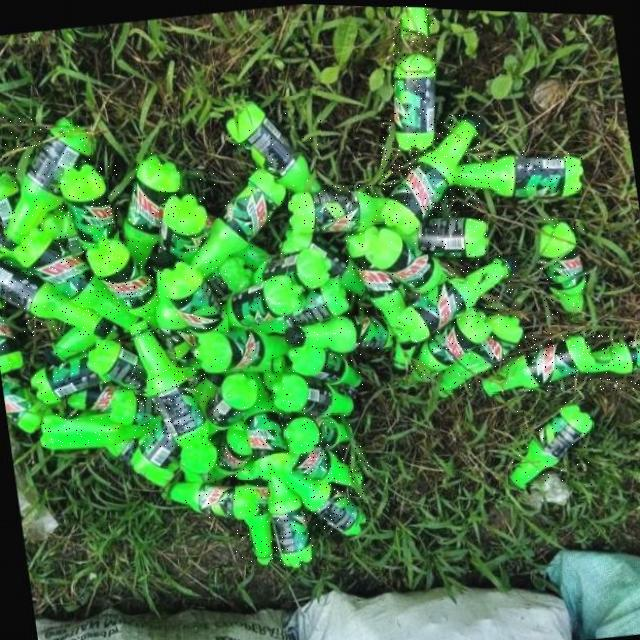plastic: (13, 230, 142, 328), (3, 118, 92, 250), (382, 114, 480, 232), (190, 166, 286, 277), (400, 253, 516, 340), (131, 320, 209, 448), (0, 252, 113, 338), (482, 331, 639, 391), (225, 97, 321, 191), (347, 224, 420, 347), (509, 400, 593, 485), (86, 239, 161, 331), (439, 312, 524, 393), (125, 154, 181, 267), (394, 5, 436, 146), (412, 307, 493, 379), (151, 251, 199, 366), (366, 225, 448, 289), (255, 277, 350, 332), (280, 472, 367, 532), (454, 152, 583, 192), (245, 369, 291, 479), (59, 163, 119, 246), (162, 261, 228, 332), (540, 219, 586, 319), (289, 186, 389, 229), (225, 273, 301, 328), (284, 313, 396, 350), (194, 327, 287, 371), (268, 475, 313, 565), (236, 461, 273, 562), (87, 339, 150, 397), (31, 352, 101, 404), (40, 414, 150, 447), (168, 480, 262, 518), (273, 373, 353, 414), (206, 370, 258, 432), (289, 344, 365, 386), (292, 444, 369, 485), (408, 215, 487, 254), (161, 193, 207, 257), (209, 420, 253, 480), (286, 414, 352, 451), (0, 301, 23, 374)
